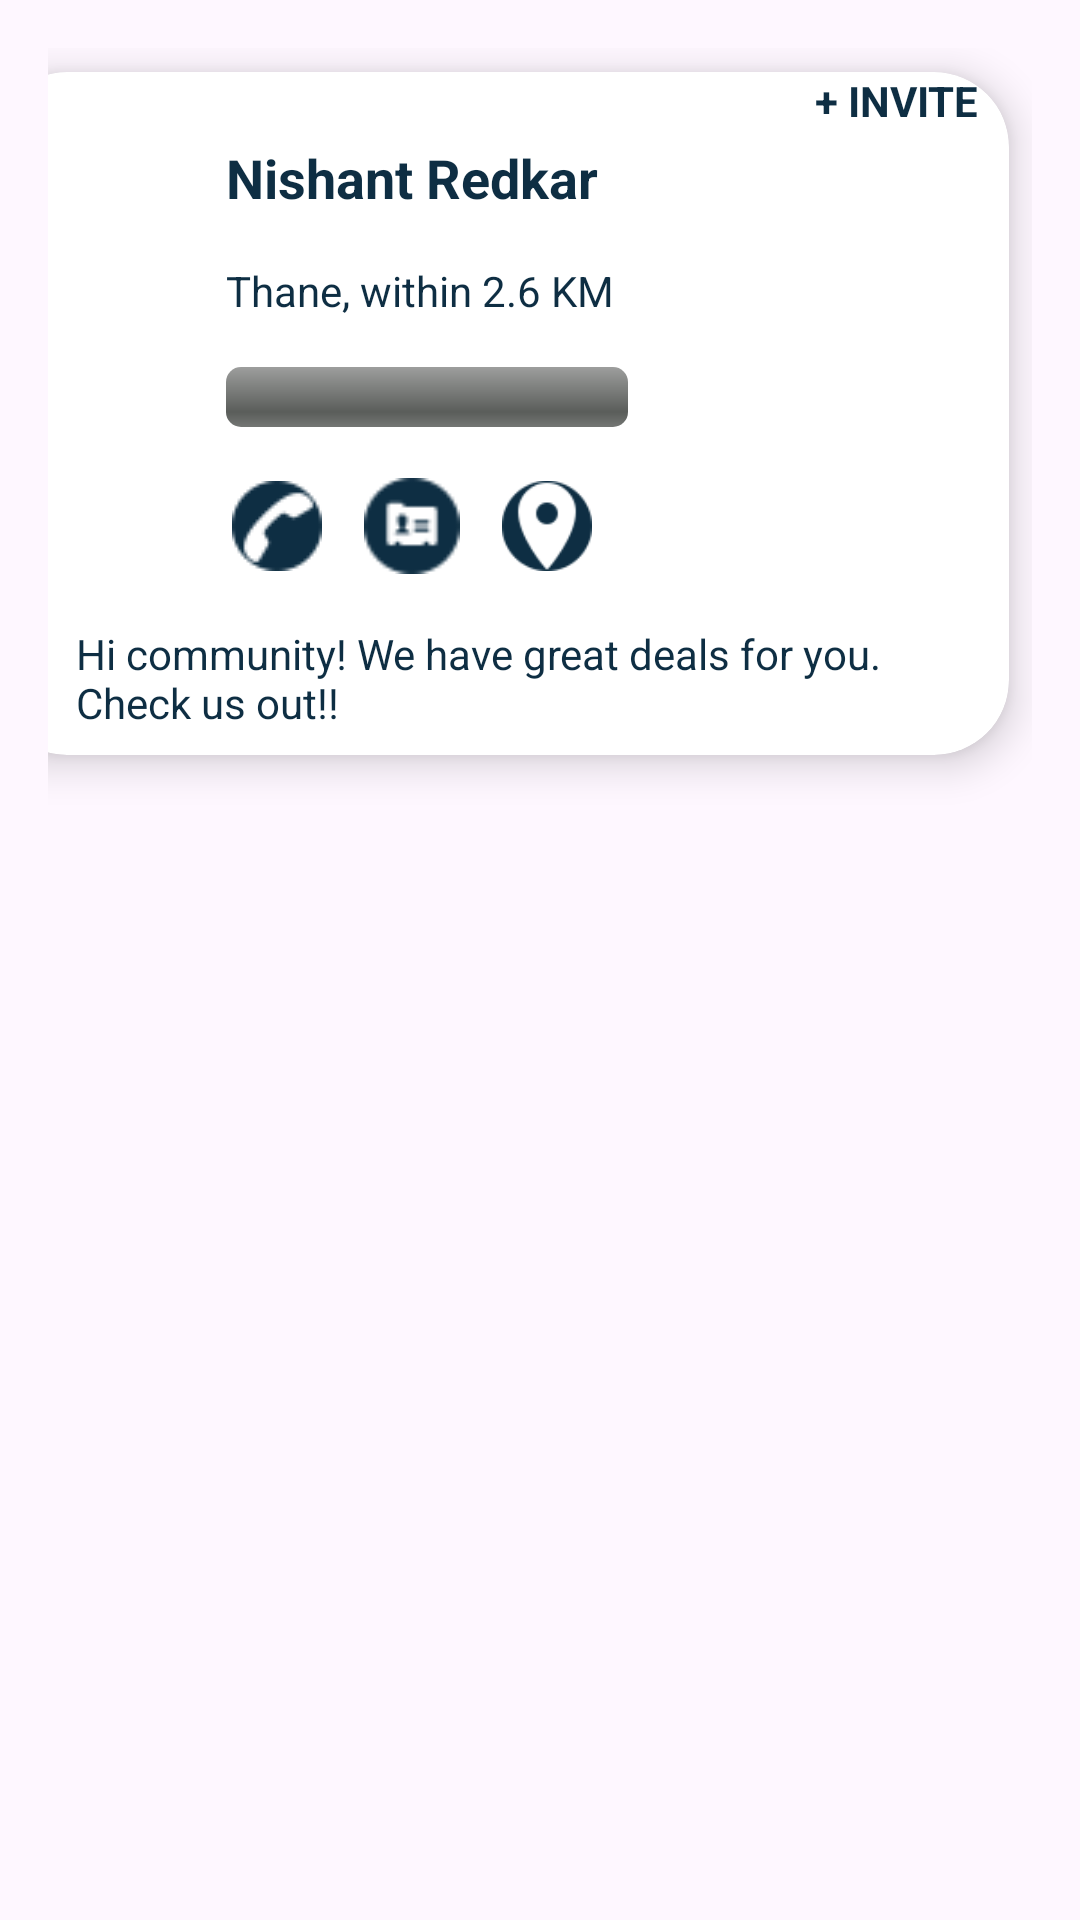

Named icons in this screenshot (1080w x 1920h) and their centers, point (x, y):
call: point (277, 526)
contact: point (412, 526)
locc: point (547, 526)
